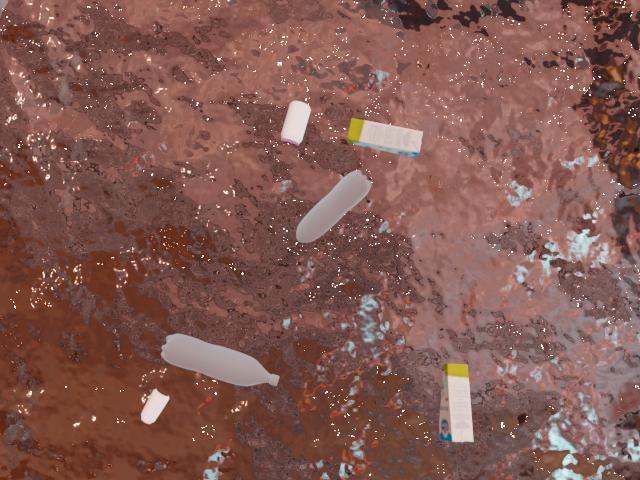Metal: (132, 381, 174, 430), (279, 97, 314, 155)
Plastic: (273, 169, 386, 268), (150, 328, 291, 391)
Trash: (338, 101, 438, 165), (426, 349, 482, 450)
